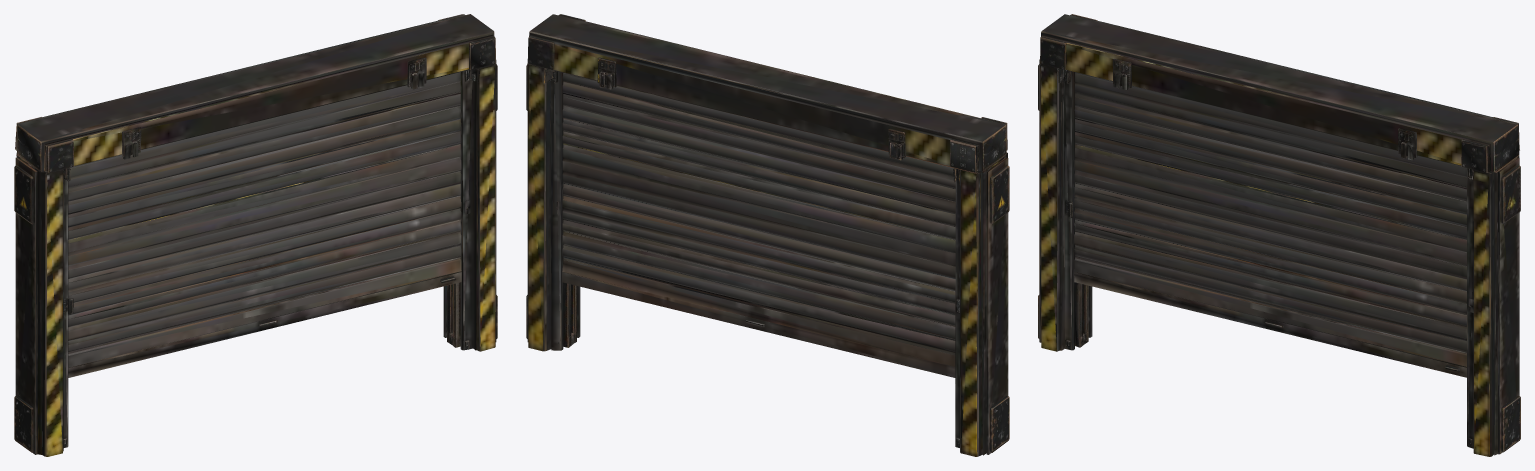
File: modular_garage_gate.glb
3 renders of one model, left to right at view 1: azimuth 30°, elevation 25°; view 2: azimuth 150°, elevation 25°; view 3: azimuth 330°, elevation 25°, orthographic.
Parts seen in each view (by area): view 1: Meshy_AI_modular_garage_gate_3d_20261028_texture; view 2: Meshy_AI_modular_garage_gate_3d_20261028_texture; view 3: Meshy_AI_modular_garage_gate_3d_20261028_texture.
Boxes of the visible parts, box(x1,y1,x2,y2) form: Meshy_AI_modular_garage_gate_3d_20261028_texture: box(14, 14, 497, 456); Meshy_AI_modular_garage_gate_3d_20261028_texture: box(526, 14, 1009, 456); Meshy_AI_modular_garage_gate_3d_20261028_texture: box(1038, 14, 1520, 456).
Size of the model in its own units: 4 by 2.56 by 0.5239.
Materials: 1 (1 with a texture image).
